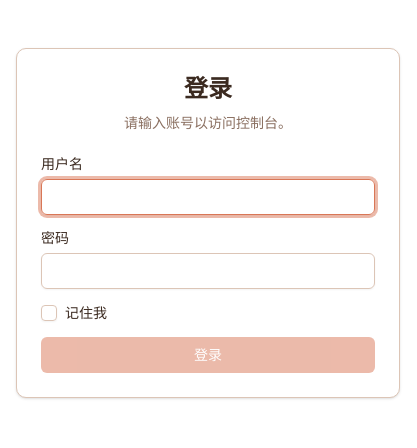
Test: 登录页 › 第二步验错一次就回到用户名与密码
The image size is (417, 448).
Type "admin" into the field labelled "用户名" at x=208, y=197, box [41,179,375,215]
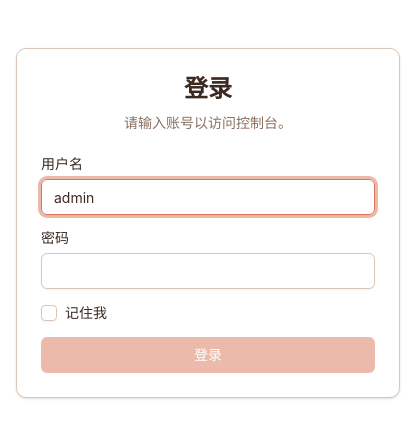
Type "secret12" into the password field labelled "密码" at x=208, y=271, box [41,253,375,289]
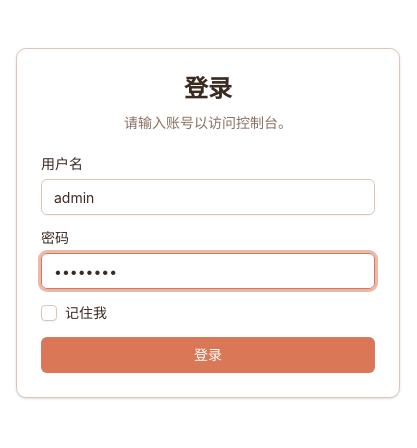
Click the button "登录" at x=208, y=355, box [41,337,375,373]
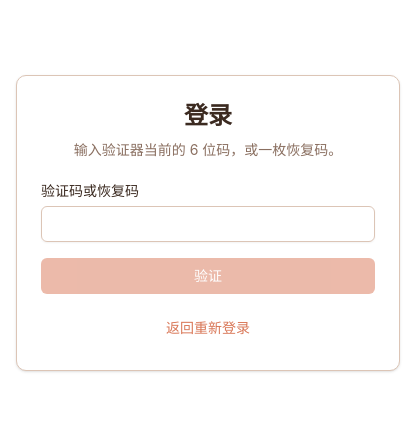
Type "000000" into the field labelled "验证码或恢复码" at x=208, y=224, box [41,206,375,242]
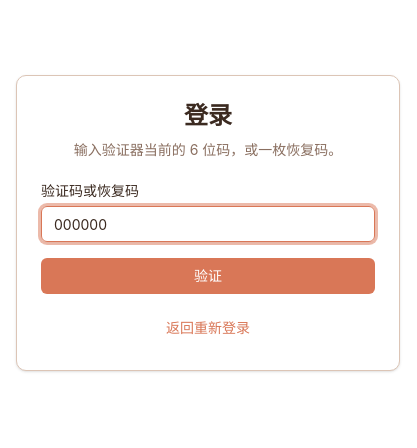
Click the button "验证" at x=208, y=276, box [41,258,375,294]
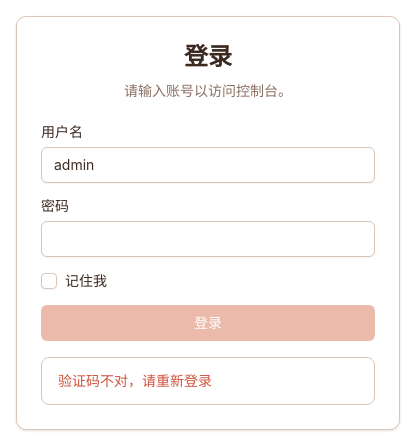
Check: the text "验证码不对，请重新登录" is shown, box [58,370,212,392]
